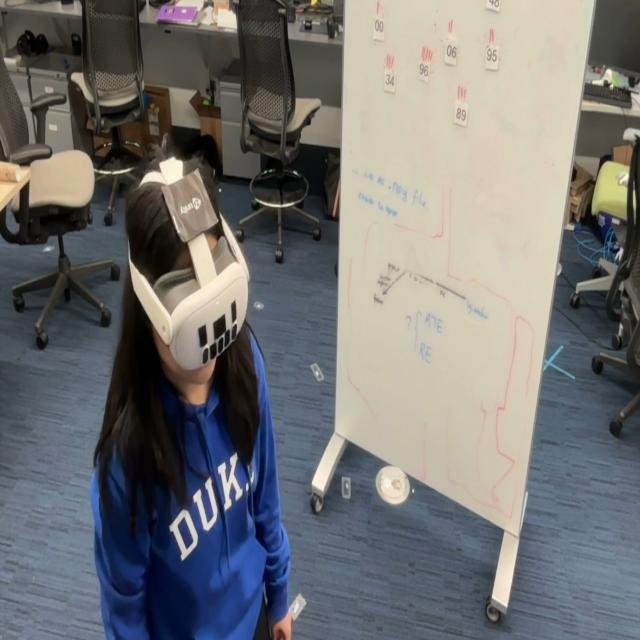Headset: (126, 205, 250, 372)
UnityLogo: (168, 162, 218, 240)
